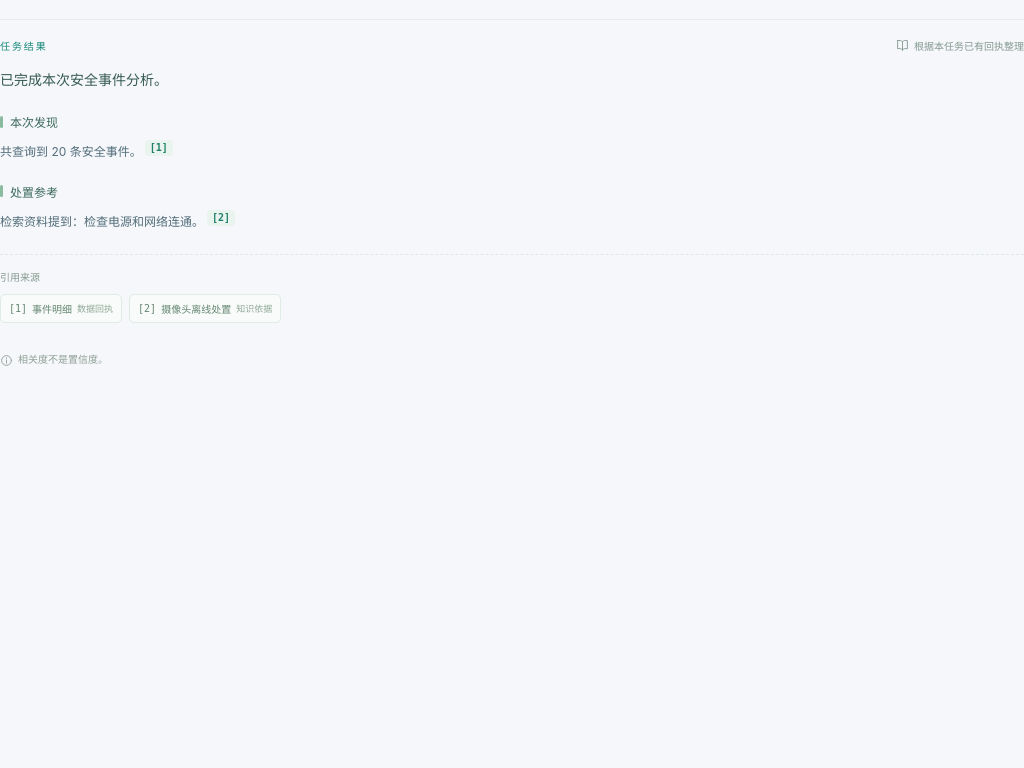
Test case: 自然语言汇报与引用 › 数据引用能核对查询参数与完整工具回执
Click the button named "查看引用 1：事件明细": (159, 148) [145,140,173,156]
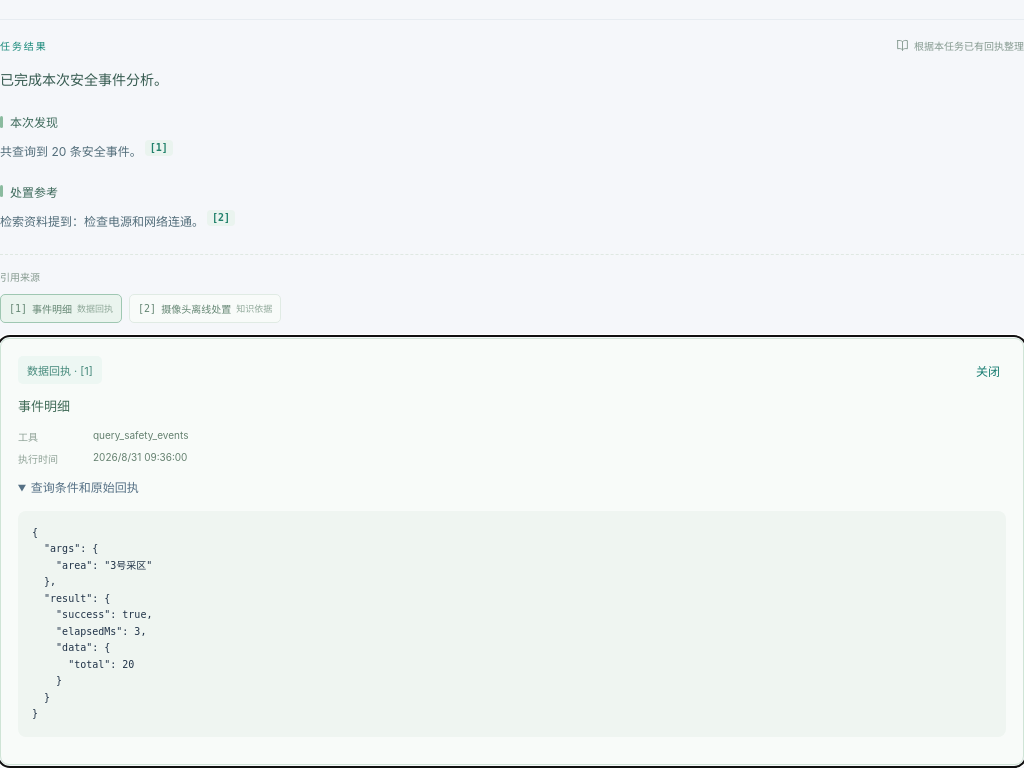
Result: the element with class "citation-panel" shows "query_safety_events" at [93,430,188,442]
Result: the text "3号采区" is shown at [32,527,152,719]
Result: the text "\"total\": 20" is shown at [32,527,152,719]
